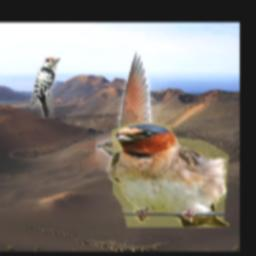Cuckoo: (96, 52, 191, 173)
Swallow: (107, 124, 230, 228)
Woodpecker: (32, 57, 61, 119)
